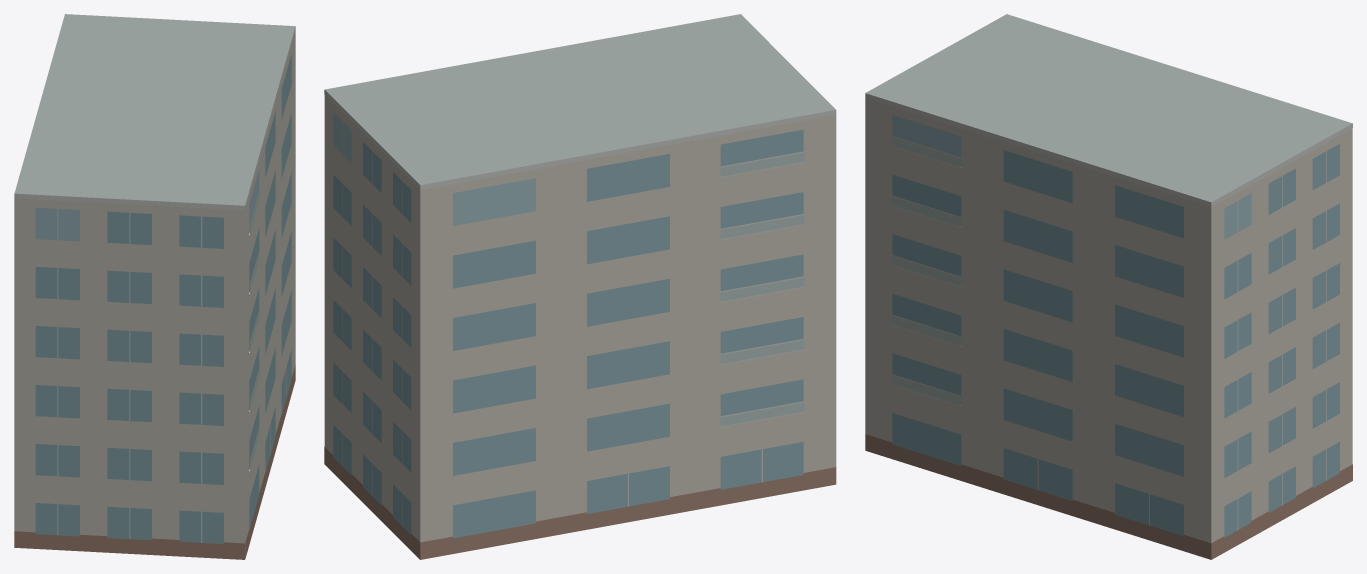
File: survey-upis-32964492.glb
The picture shows the model from 3 angles, left to right: view 1: azimuth 30°, elevation 25°; view 2: azimuth 150°, elevation 25°; view 3: azimuth 270°, elevation 25°; orthographic projection. The views are drawn at different scales.
Visible parts, largest first — view 1: survey-upis-32964492.tmp; view 2: survey-upis-32964492.tmp; view 3: survey-upis-32964492.tmp.
Part boxes in pixels (x1,y1,x2,y2): survey-upis-32964492.tmp: (14,14,295,559); survey-upis-32964492.tmp: (324,14,836,559); survey-upis-32964492.tmp: (865,14,1352,559).
Size of the model in its own units: 20.69 by 18.3 by 22.63.
